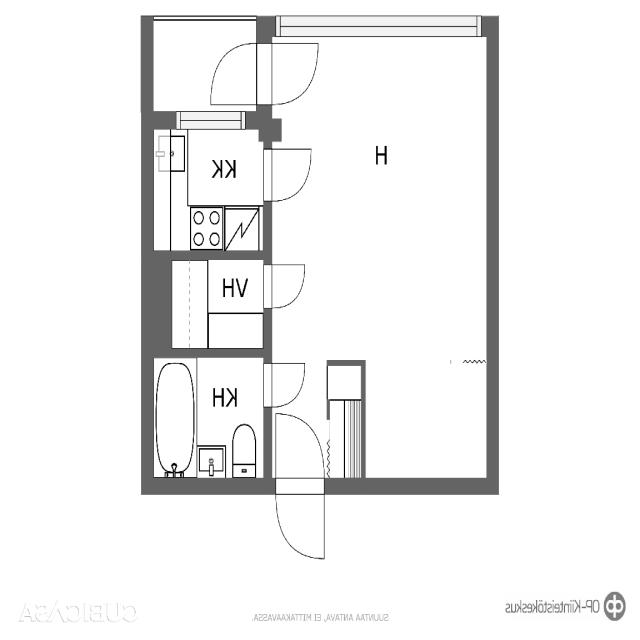door: (270, 425, 330, 561), (272, 408, 328, 490), (266, 32, 322, 112), (205, 34, 258, 108), (260, 139, 316, 207), (259, 356, 310, 413), (260, 257, 309, 313)
window: (175, 108, 253, 132)
zone: (268, 30, 494, 485), (147, 352, 265, 487), (152, 122, 270, 252), (207, 257, 266, 314)
